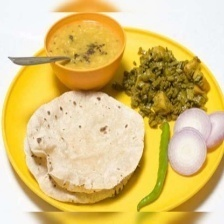dal: (45, 17, 123, 73)
